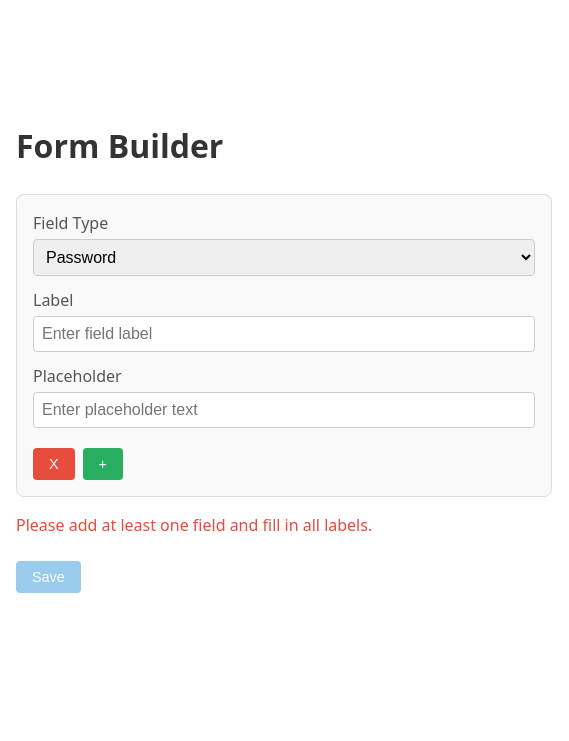
it: Form Builder › should add a new field when clicking +
Expected: the number of elements with class "field-row" is 1, [16,194,552,497]
What coordinates should you click on to do the following:
click the button named "Add new field"
I would click on:
 (103, 464)
Its box is [83,448,123,480].
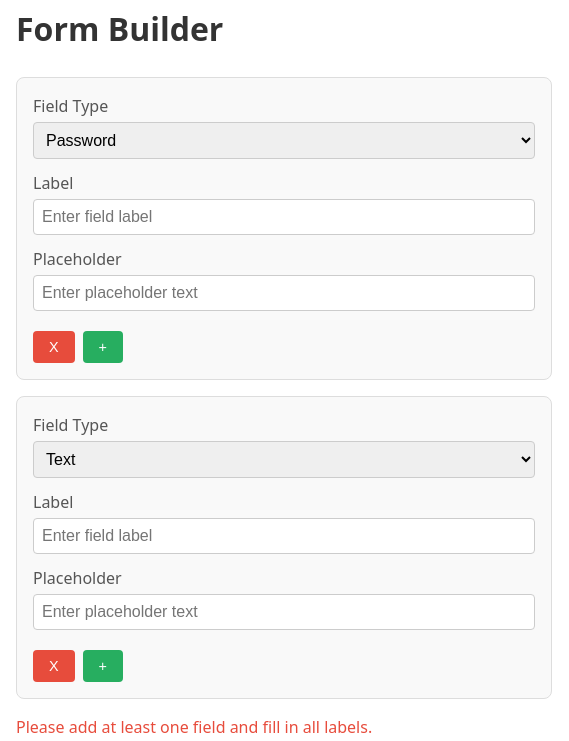
Expected: the number of elements with class "field-row" is 2, [16,77,552,380]; [16,396,552,699]
